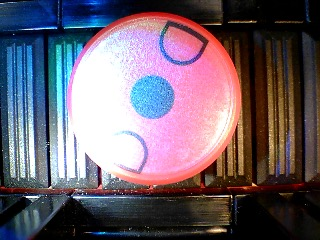BOHOMIPO2: (67, 12, 242, 186)
